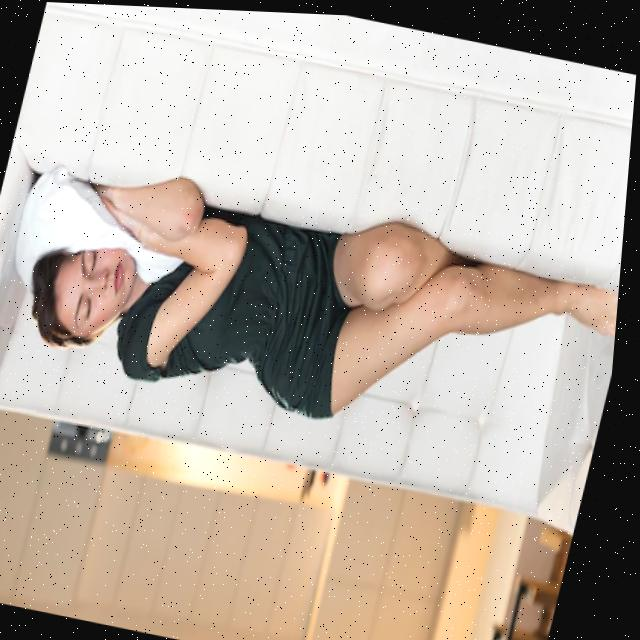sleeping-person: (0, 137, 631, 491)
